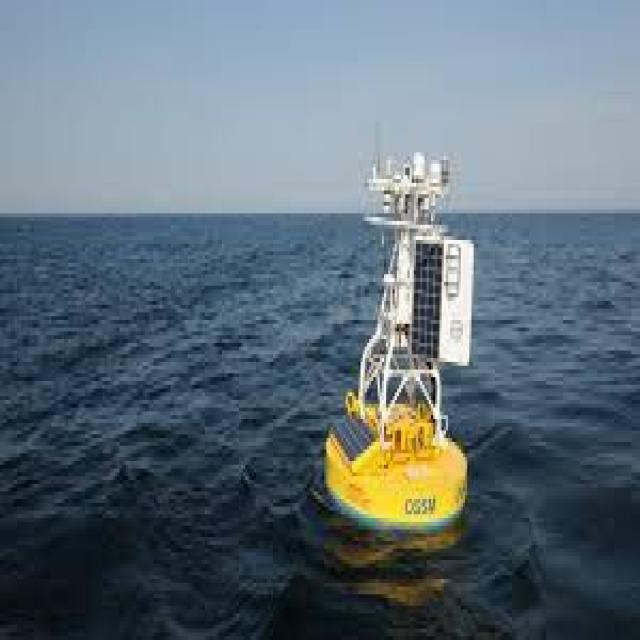marque: (319, 106, 481, 558)
